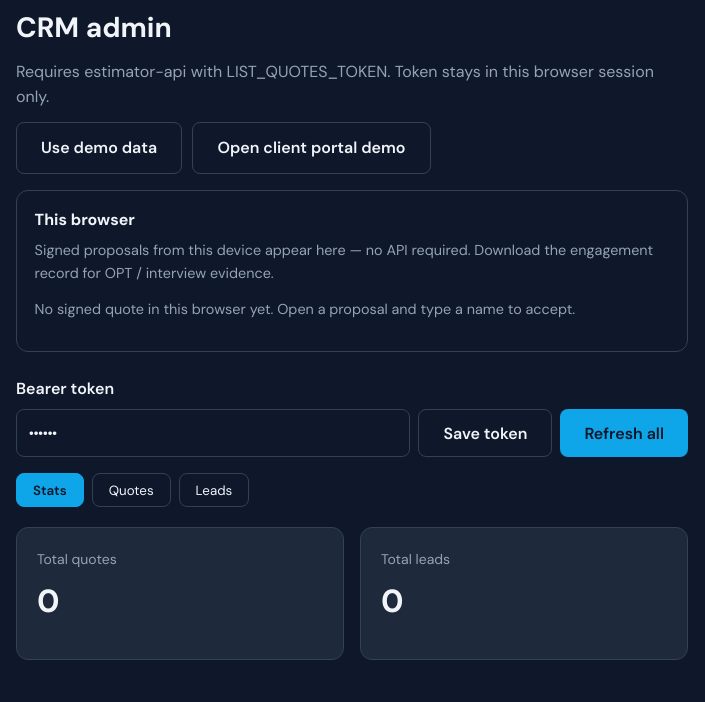
Test: CrmAdmin › tolerates broken session storage and non-array live payloads
Later steps or results of the test are not shown.
Check: the text "Total quotes" is shown, box [37,550,117,568]
Step 1. Click the tab "Quotes" → click(131, 490), box [92,474,171,507]
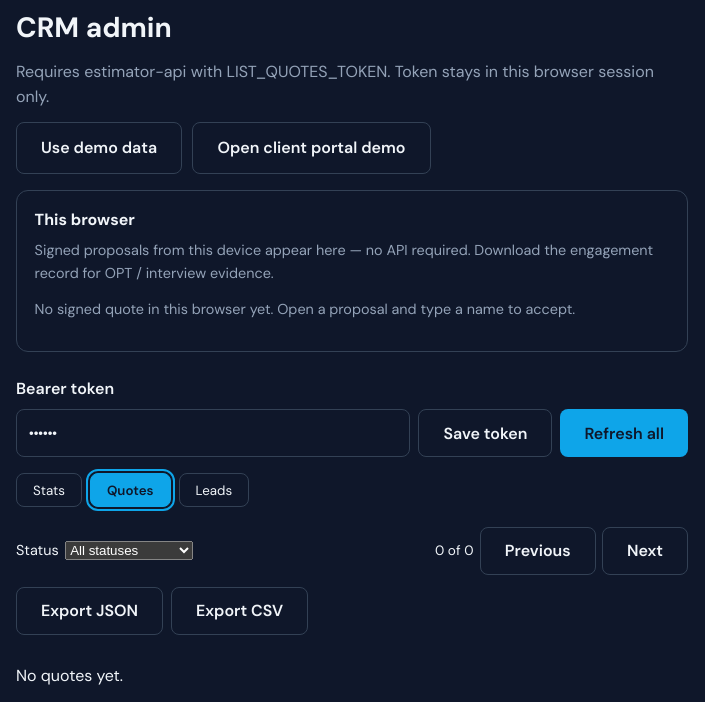
Check: the text "No quotes yet." is shown, box [16,665,123,686]
